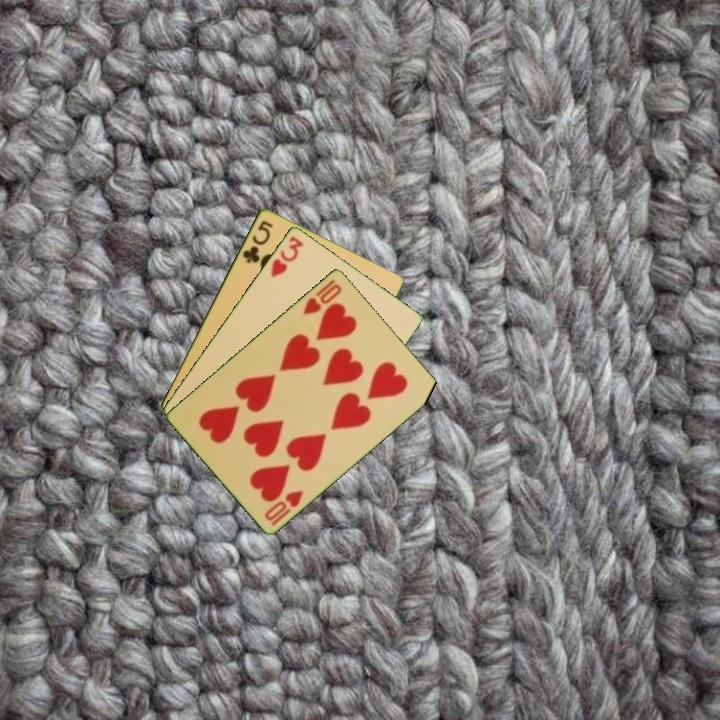10h: (261, 486, 306, 528), (299, 280, 345, 317)
3h: (267, 232, 306, 280)
5c: (238, 216, 275, 266)
